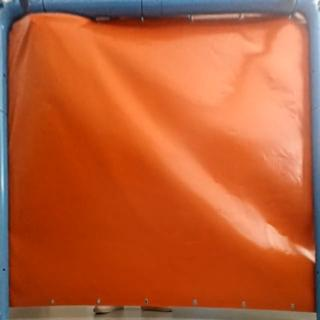Hit-hRxx: (23, 12, 41, 27)
